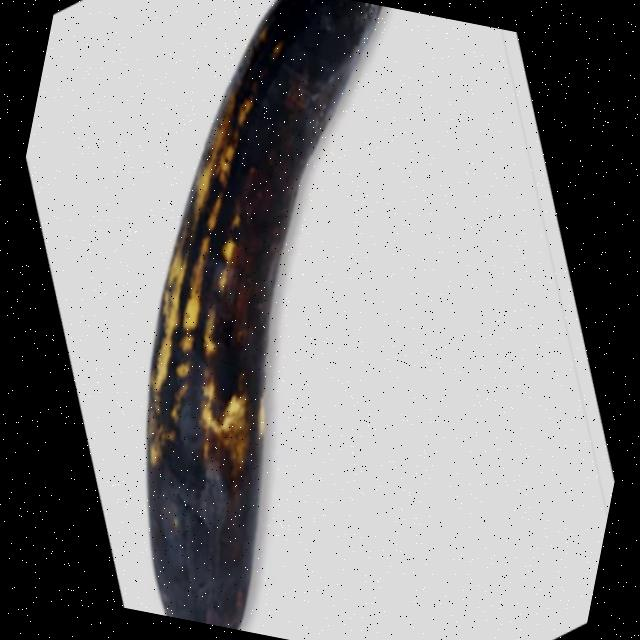Rotten: (101, 0, 384, 635)
